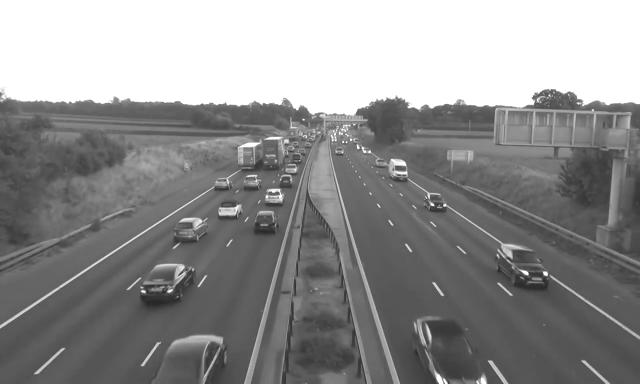caminhaog: (262, 136, 286, 171), (237, 141, 264, 171), (288, 128, 299, 141)
carro: (411, 314, 489, 384), (151, 333, 229, 384), (494, 243, 550, 289), (139, 264, 197, 306), (172, 216, 209, 244), (253, 210, 280, 235), (423, 192, 448, 213), (218, 199, 243, 219), (265, 188, 285, 206), (242, 174, 263, 191), (214, 177, 233, 190), (279, 175, 295, 188), (292, 153, 304, 164), (286, 164, 298, 174), (375, 158, 386, 168), (334, 146, 344, 156), (297, 148, 306, 156), (362, 146, 371, 154), (284, 148, 289, 158), (304, 142, 312, 148), (287, 146, 295, 152), (356, 145, 365, 150), (292, 142, 299, 148), (342, 139, 348, 145), (332, 137, 338, 143)
van: (388, 158, 408, 180)
